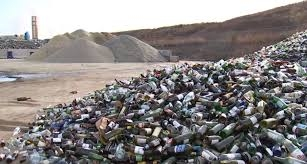glass: (234, 112, 265, 135), (281, 136, 307, 160), (165, 143, 202, 155), (214, 134, 237, 151), (272, 153, 306, 164), (270, 93, 290, 109), (220, 120, 236, 138), (200, 148, 219, 163), (142, 137, 163, 150), (162, 119, 179, 133), (265, 128, 284, 140), (131, 132, 150, 143), (128, 153, 148, 162)
